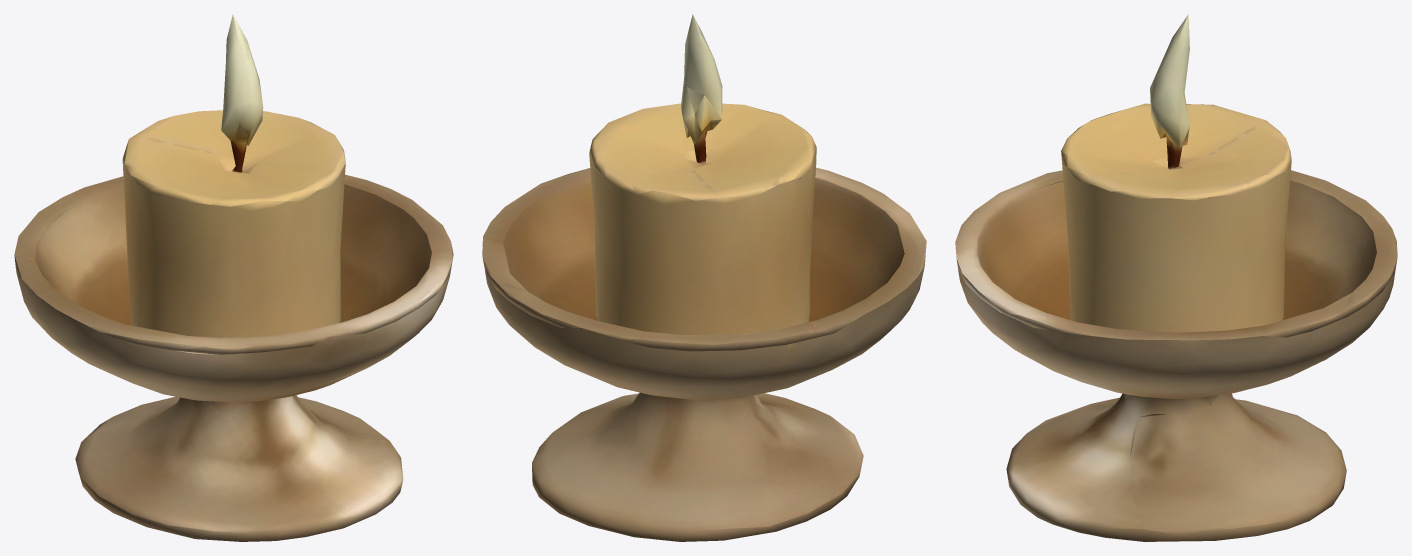
File: candle.glb
The picture shows the model from 3 angles, left to right: view 1: azimuth 30°, elevation 25°; view 2: azimuth 150°, elevation 25°; view 3: azimuth 270°, elevation 25°; orthographic projection.
Parts seen in each view (by area): view 1: model; view 2: model; view 3: model.
Boxes of the visible parts, <box> form: model: <box>14,14,453,541</box>; model: <box>482,14,926,541</box>; model: <box>955,14,1397,541</box>.
Size of the model in its own units: 1.64 by 1.91 by 1.64.
1 material, 1 textured.
